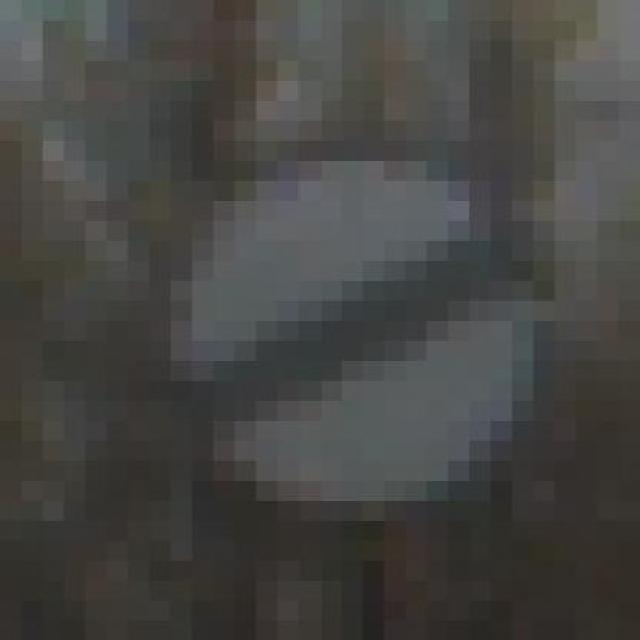End of all speed and passing limits: (129, 120, 576, 520)
